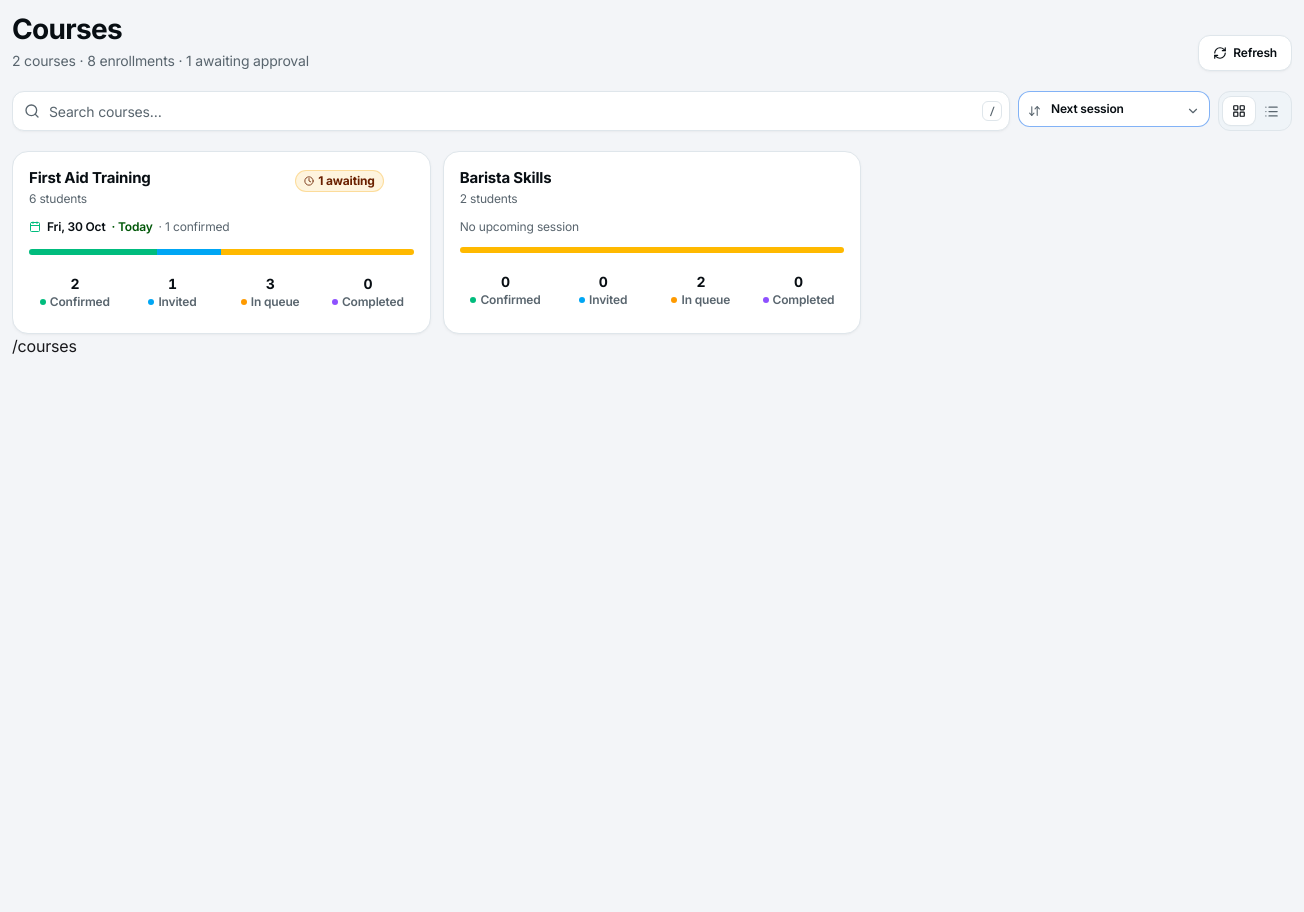
Test: ViewerCourses › catalog › opens a course roster on click and returns via the back link
The width and height of the screenshot is (1304, 912).
Click the link with aria-label "Open First Aid Training".
click(221, 242)  # box x1=12 y1=151 x2=431 y2=334
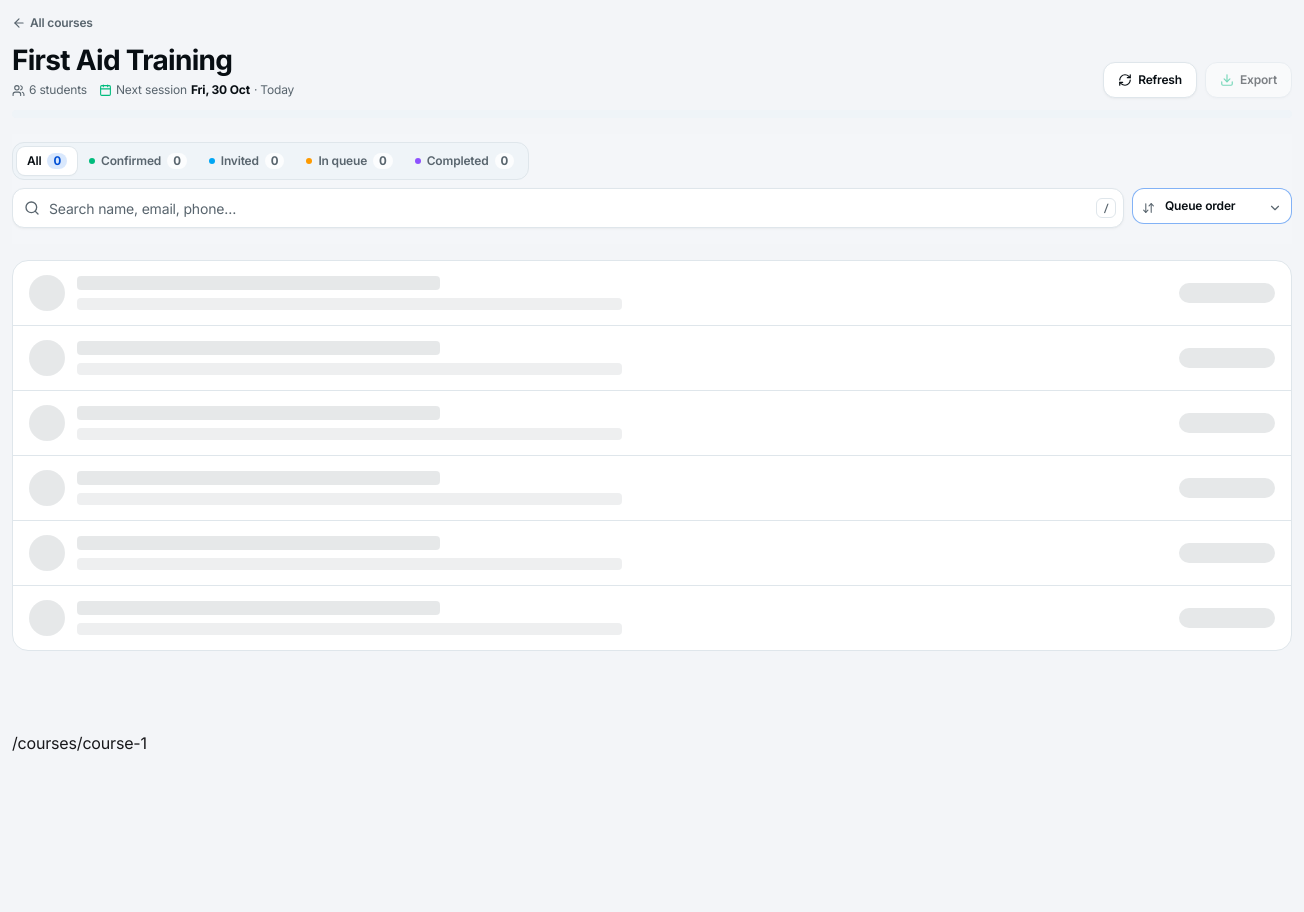
Check: the text with test id "location" reads "/courses/course-1", box x1=12 y1=733 x2=147 y2=753
Check: the heading "First Aid Training" is shown, box x1=12 y1=43 x2=232 y2=77
Click the link "All courses".
click(52, 23)  # box x1=12 y1=15 x2=93 y2=31
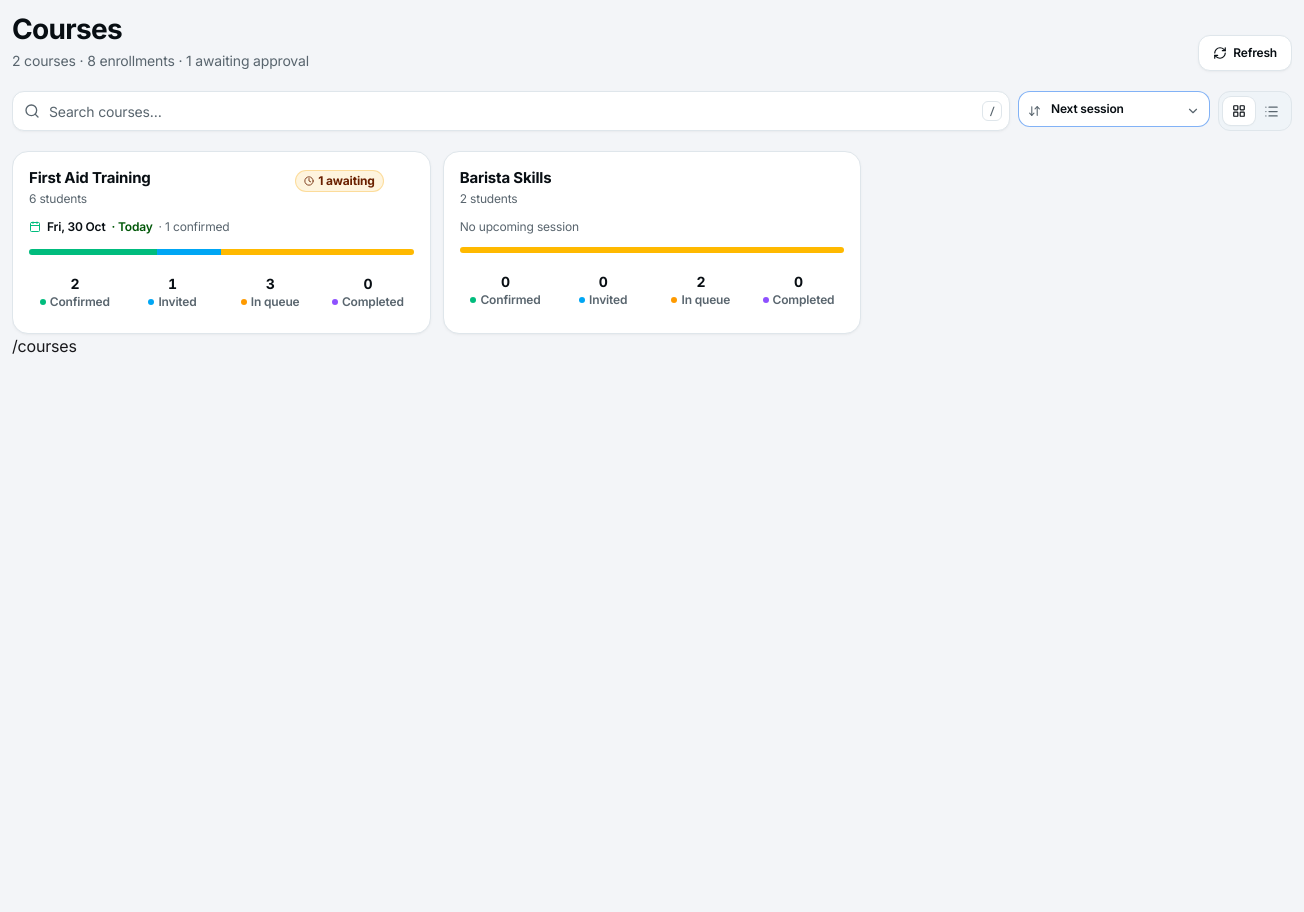
Check: the text with test id "location" reads "/courses", box x1=12 y1=336 x2=77 y2=356
Check: the search field with placeholder "Search courses…" is shown, box x1=12 y1=91 x2=1010 y2=131
